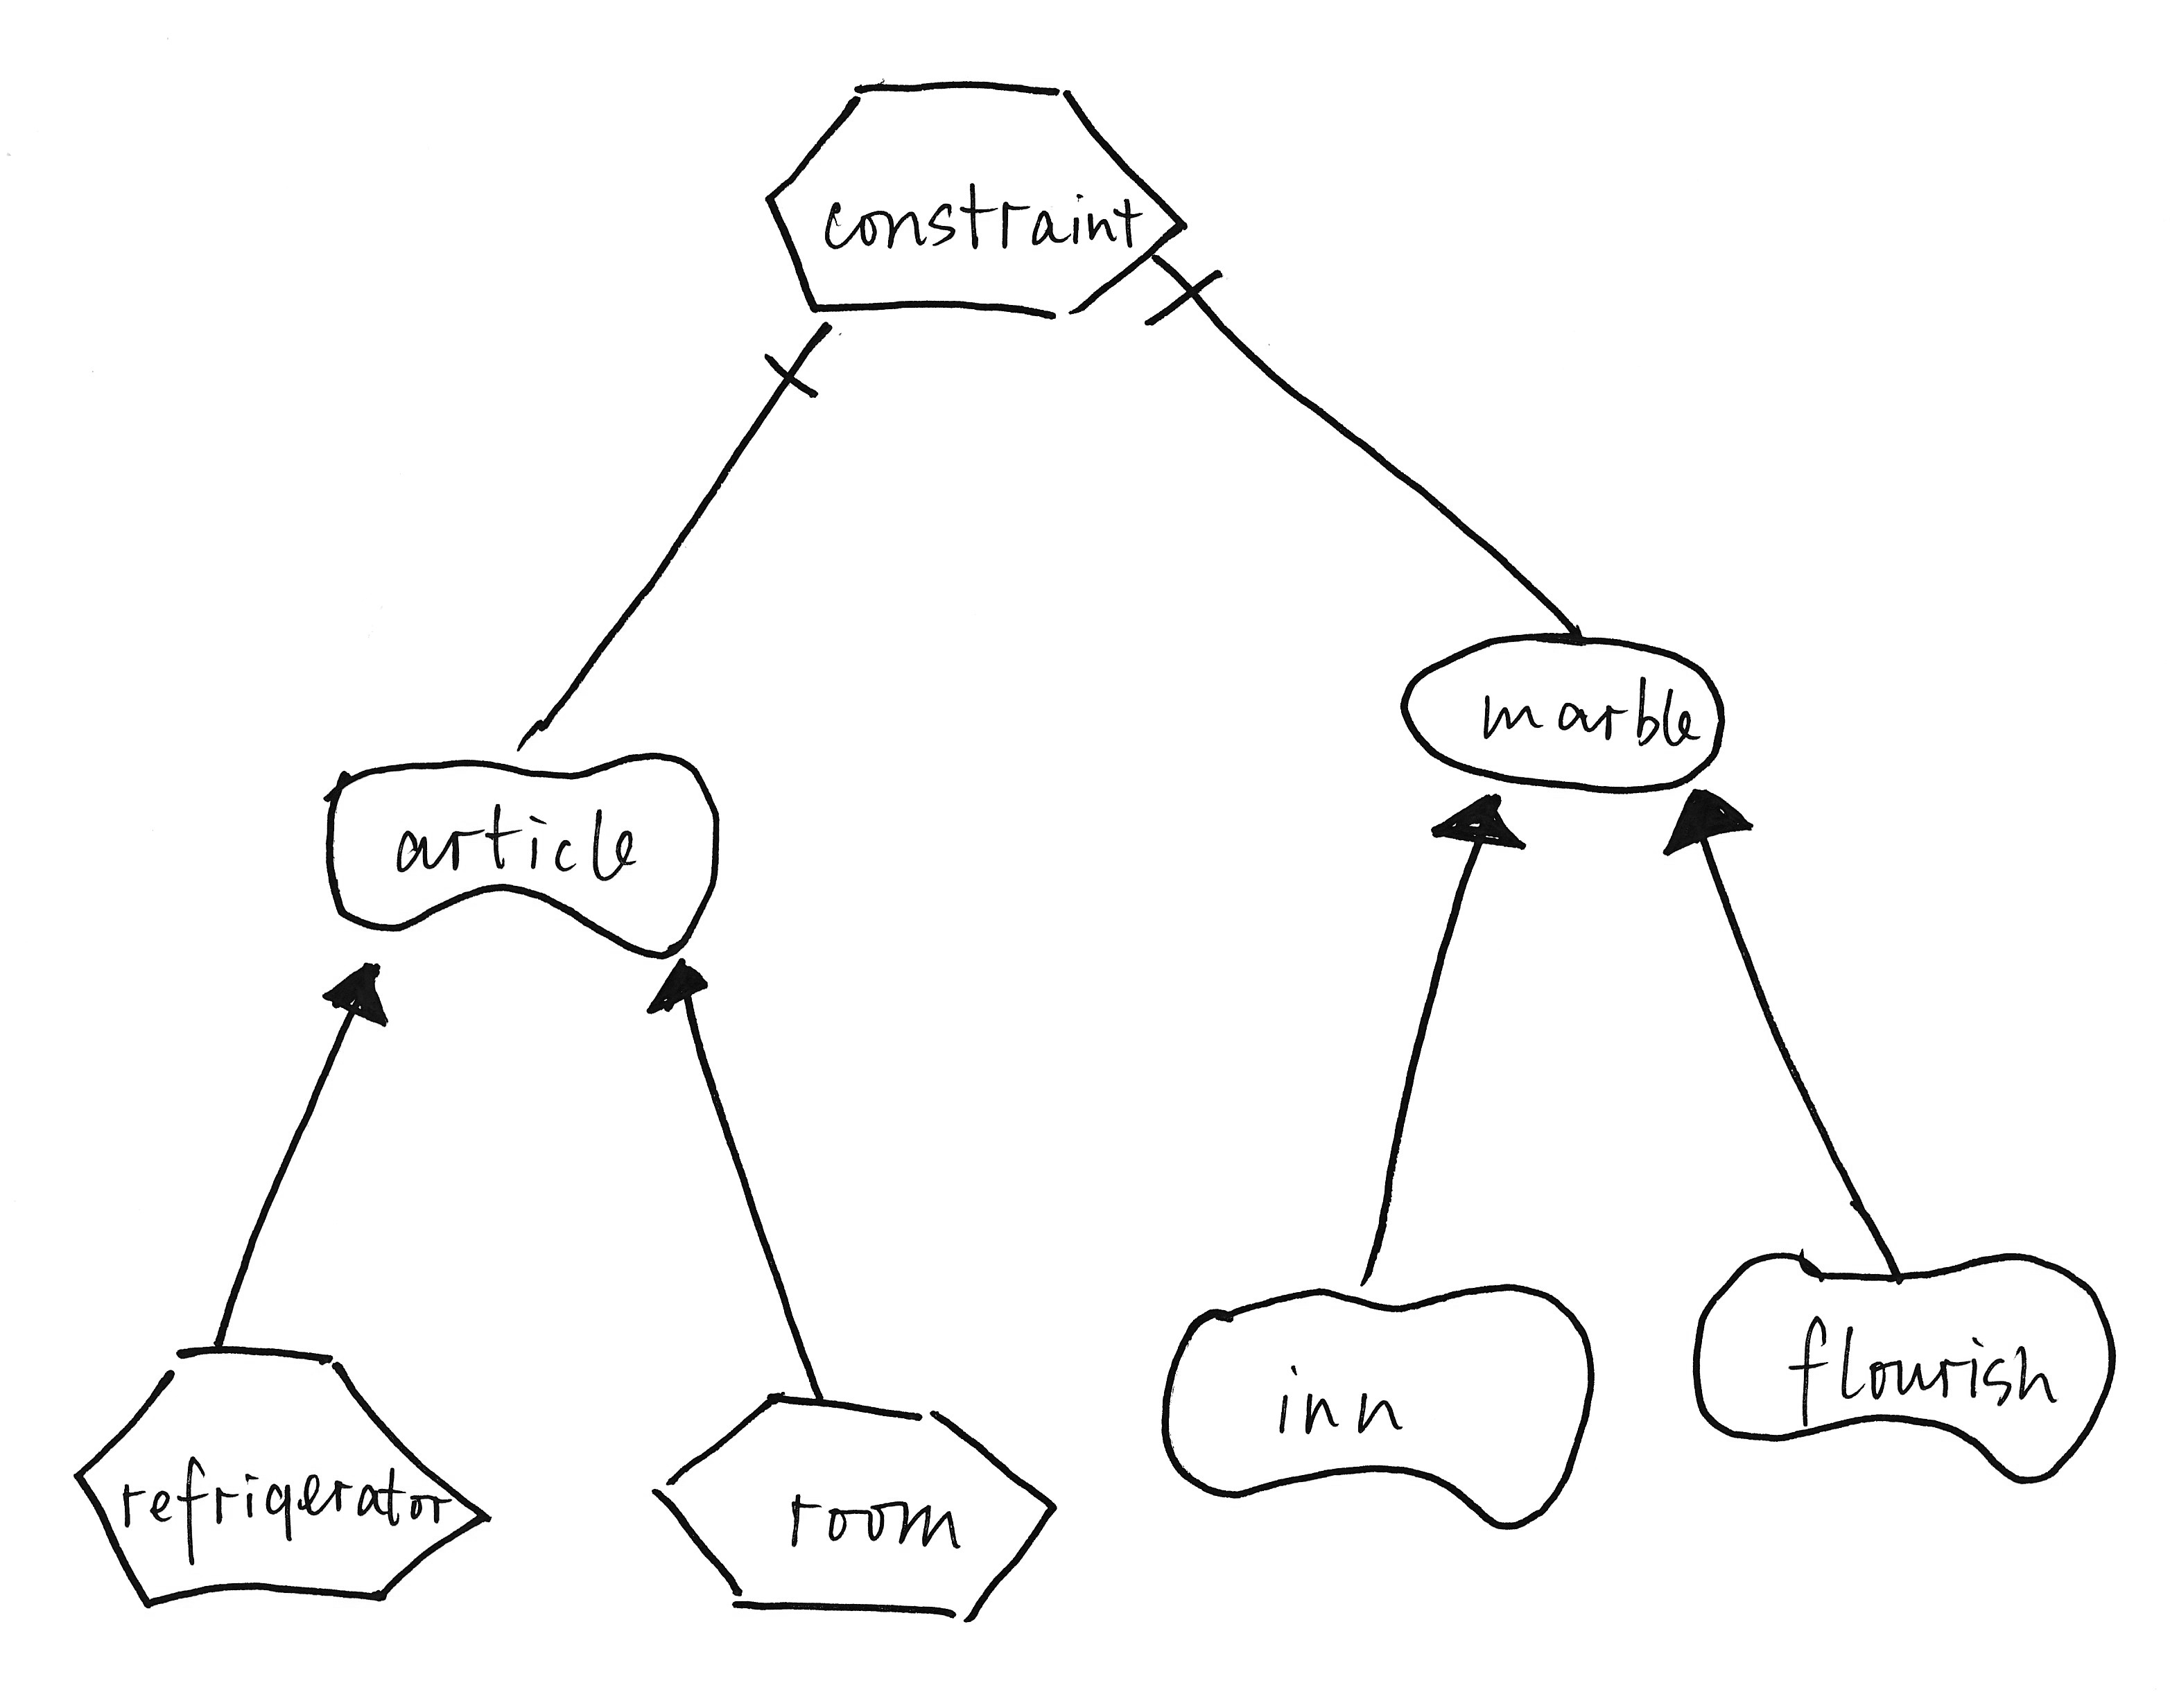and: (1126, 241, 1244, 349), (747, 312, 847, 417)
goal: (1388, 616, 1749, 806)
or: (1413, 782, 1539, 870), (1649, 780, 1775, 866), (308, 946, 402, 1037), (632, 954, 724, 1028)
quality: (1138, 1270, 1606, 1548), (1680, 1236, 2140, 1513), (312, 743, 736, 972)
task: (56, 1324, 514, 1618), (752, 56, 1196, 333), (620, 1375, 1064, 1641)
